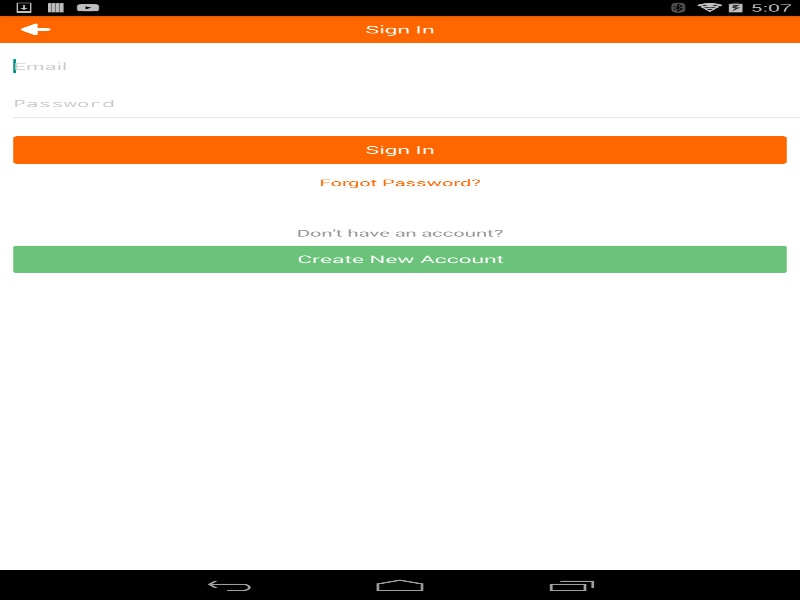Button: (13, 245, 786, 273), (13, 136, 786, 163), (13, 19, 57, 39)
Input: (13, 52, 800, 80), (13, 89, 800, 117)
